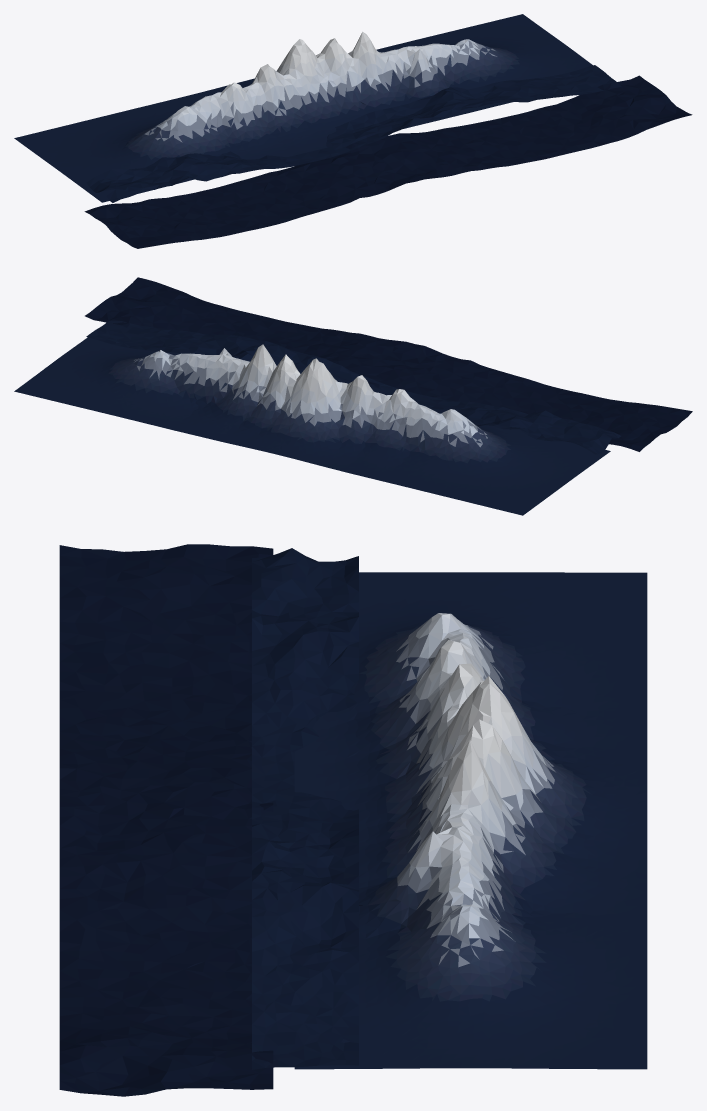
The model's file is kanchenjunga.glb.
3 renders of one model, top to bottom at view 1: azimuth 30°, elevation 25°; view 2: azimuth 150°, elevation 25°; view 3: azimuth 270°, elevation 25°, orthographic. The views are drawn at different scales.
Visible parts, largest first — view 1: Range, HillsNear, HillsMid; view 2: Range, HillsNear, HillsMid; view 3: Range, HillsNear, HillsMid.
Boxes of the visible parts, x1,y1,x2,y2 form: Range: (14,14,592,202); HillsNear: (84,75,692,248); HillsMid: (86,65,621,202); Range: (14,337,610,515); HillsNear: (85,277,692,451); HillsMid: (86,319,621,454); Range: (294,572,647,1069); HillsNear: (59,544,273,1096); HillsMid: (252,548,358,1069).
Size of the model in its own units: 240 by 31.82 by 110.
